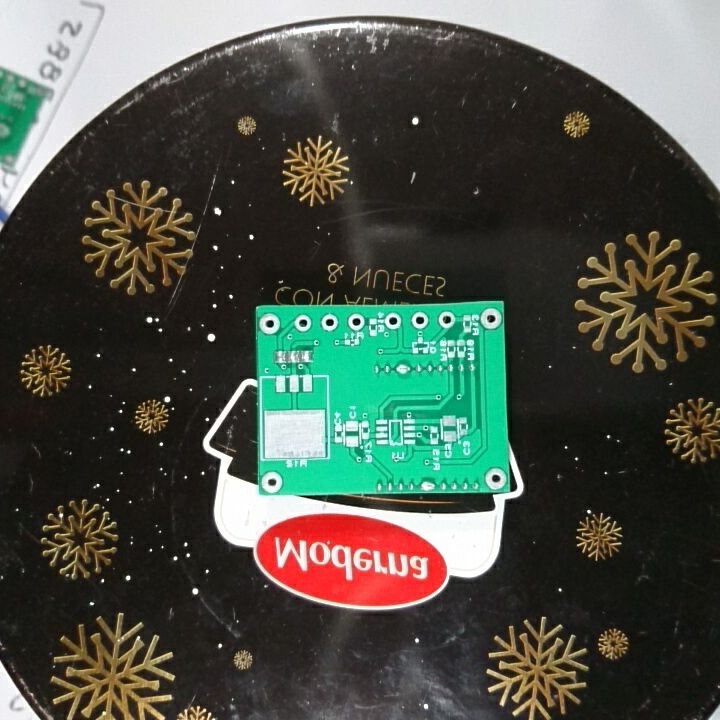F: (257, 312, 282, 337), (259, 469, 285, 493), (483, 466, 507, 492), (479, 307, 502, 332), (292, 312, 313, 336), (318, 312, 340, 332), (437, 310, 457, 330), (410, 311, 431, 330), (345, 313, 366, 332), (383, 312, 402, 332)
P: (394, 360, 414, 380), (418, 478, 437, 492)
